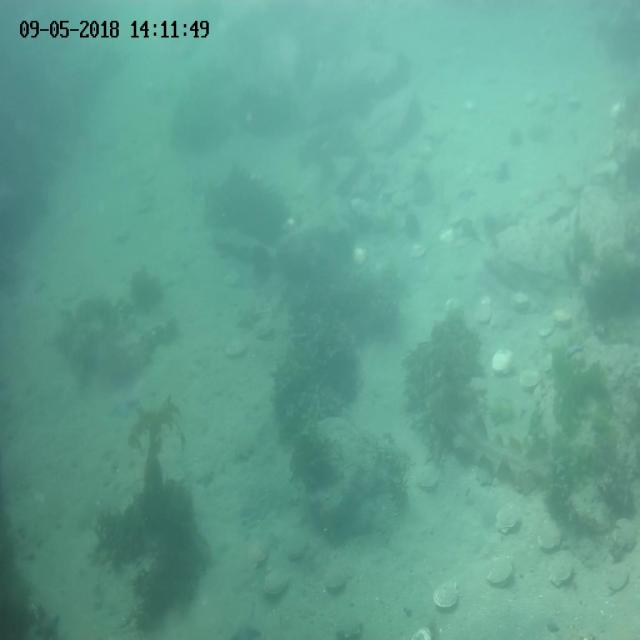scallop: (496, 499, 520, 535), (537, 518, 563, 550), (472, 292, 496, 326), (332, 612, 363, 638), (614, 516, 636, 552), (548, 558, 576, 586), (486, 557, 514, 585), (263, 569, 290, 598), (433, 578, 459, 608), (490, 346, 515, 376), (284, 537, 310, 562), (325, 570, 350, 594), (223, 337, 248, 358), (519, 368, 542, 390), (416, 470, 439, 491), (473, 464, 494, 486), (552, 308, 575, 326), (537, 352, 554, 376), (353, 245, 371, 267), (510, 289, 530, 308), (438, 226, 457, 245), (536, 319, 554, 339), (409, 240, 427, 260)
starfish: (226, 601, 266, 640), (106, 390, 140, 422), (33, 606, 63, 640), (196, 468, 216, 490)
